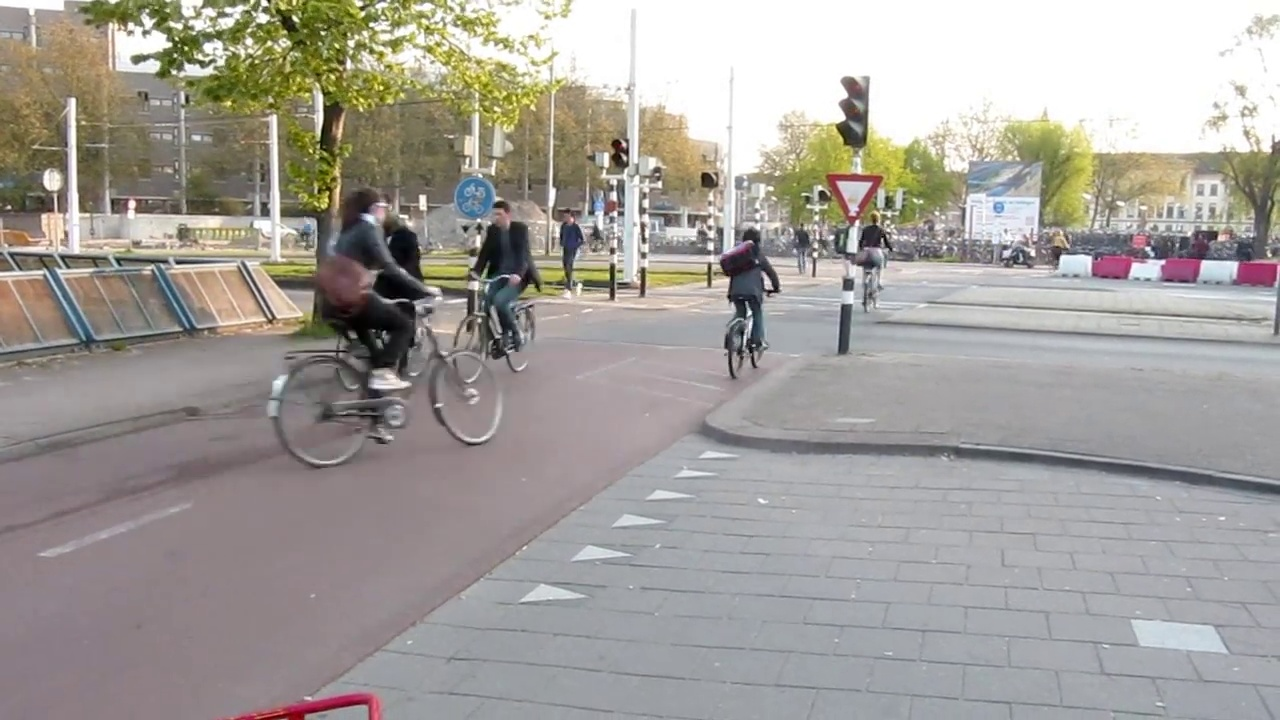cyclist_back: (717, 214, 781, 386), (855, 208, 892, 315)
cyclist_front: (456, 196, 546, 373)
cyclist_side: (274, 184, 512, 462)
